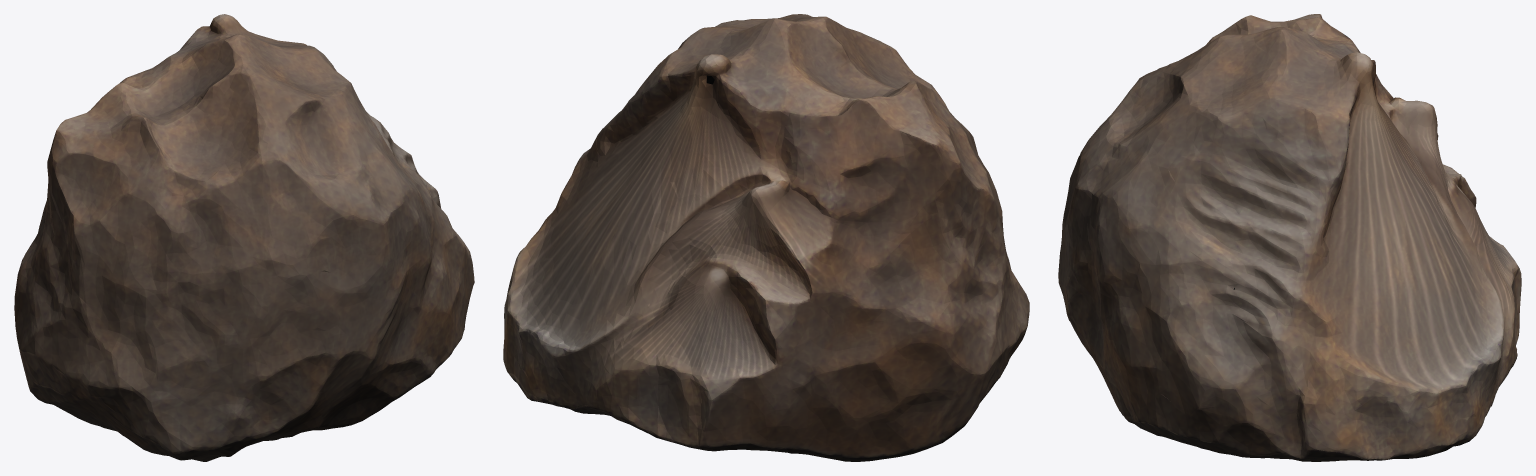
The picture shows the model from 3 angles, left to right: view 1: azimuth 30°, elevation 25°; view 2: azimuth 150°, elevation 25°; view 3: azimuth 270°, elevation 25°; orthographic projection. The views are drawn at different scales.
Visible parts, largest first — view 1: world; view 2: world; view 3: world.
Boxes of the visible parts, box(x1,y1,x2,y2) form: world: box(14, 14, 474, 461); world: box(503, 14, 1029, 461); world: box(1058, 14, 1521, 461).
Size of the model in its own units: 0.3 by 0.2613 by 0.2709.
Materials: 2 (2 with a texture image).
